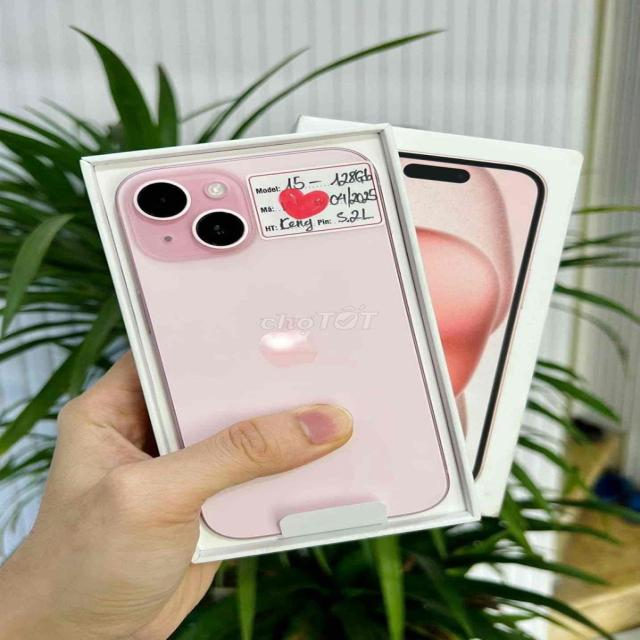gen_12_13: (96, 149, 488, 534)
